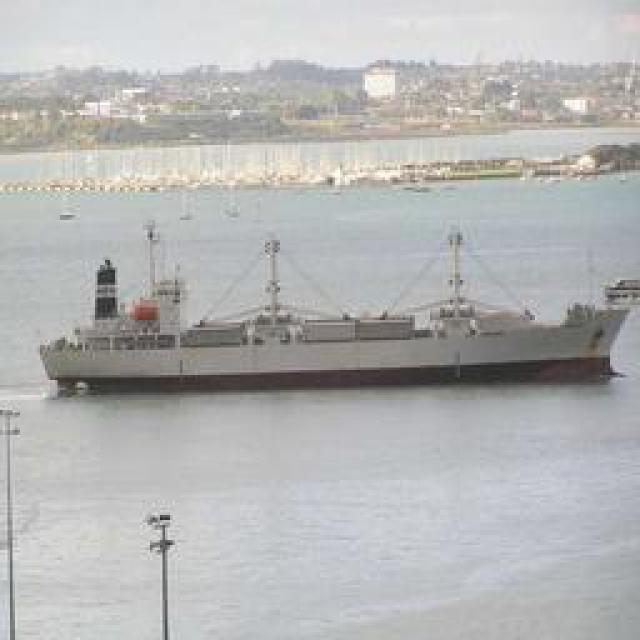Ship: (29, 226, 632, 401)
